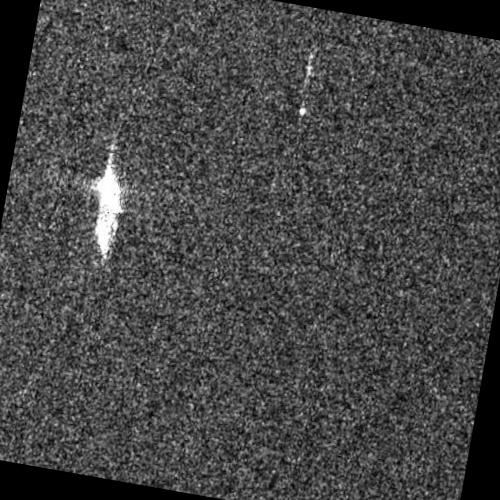ship: (94, 161, 121, 259)
